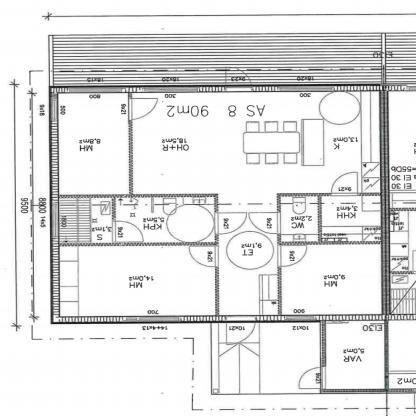door: (221, 312, 261, 347), (219, 64, 257, 94), (247, 209, 286, 236), (111, 219, 146, 248), (186, 241, 222, 268), (124, 95, 160, 122), (295, 367, 335, 391), (274, 242, 308, 268), (213, 211, 247, 236), (328, 169, 362, 194)
window: (273, 82, 338, 96), (137, 83, 206, 96), (63, 83, 128, 96), (45, 202, 67, 240), (120, 312, 190, 323), (44, 92, 64, 127), (281, 312, 317, 326)
